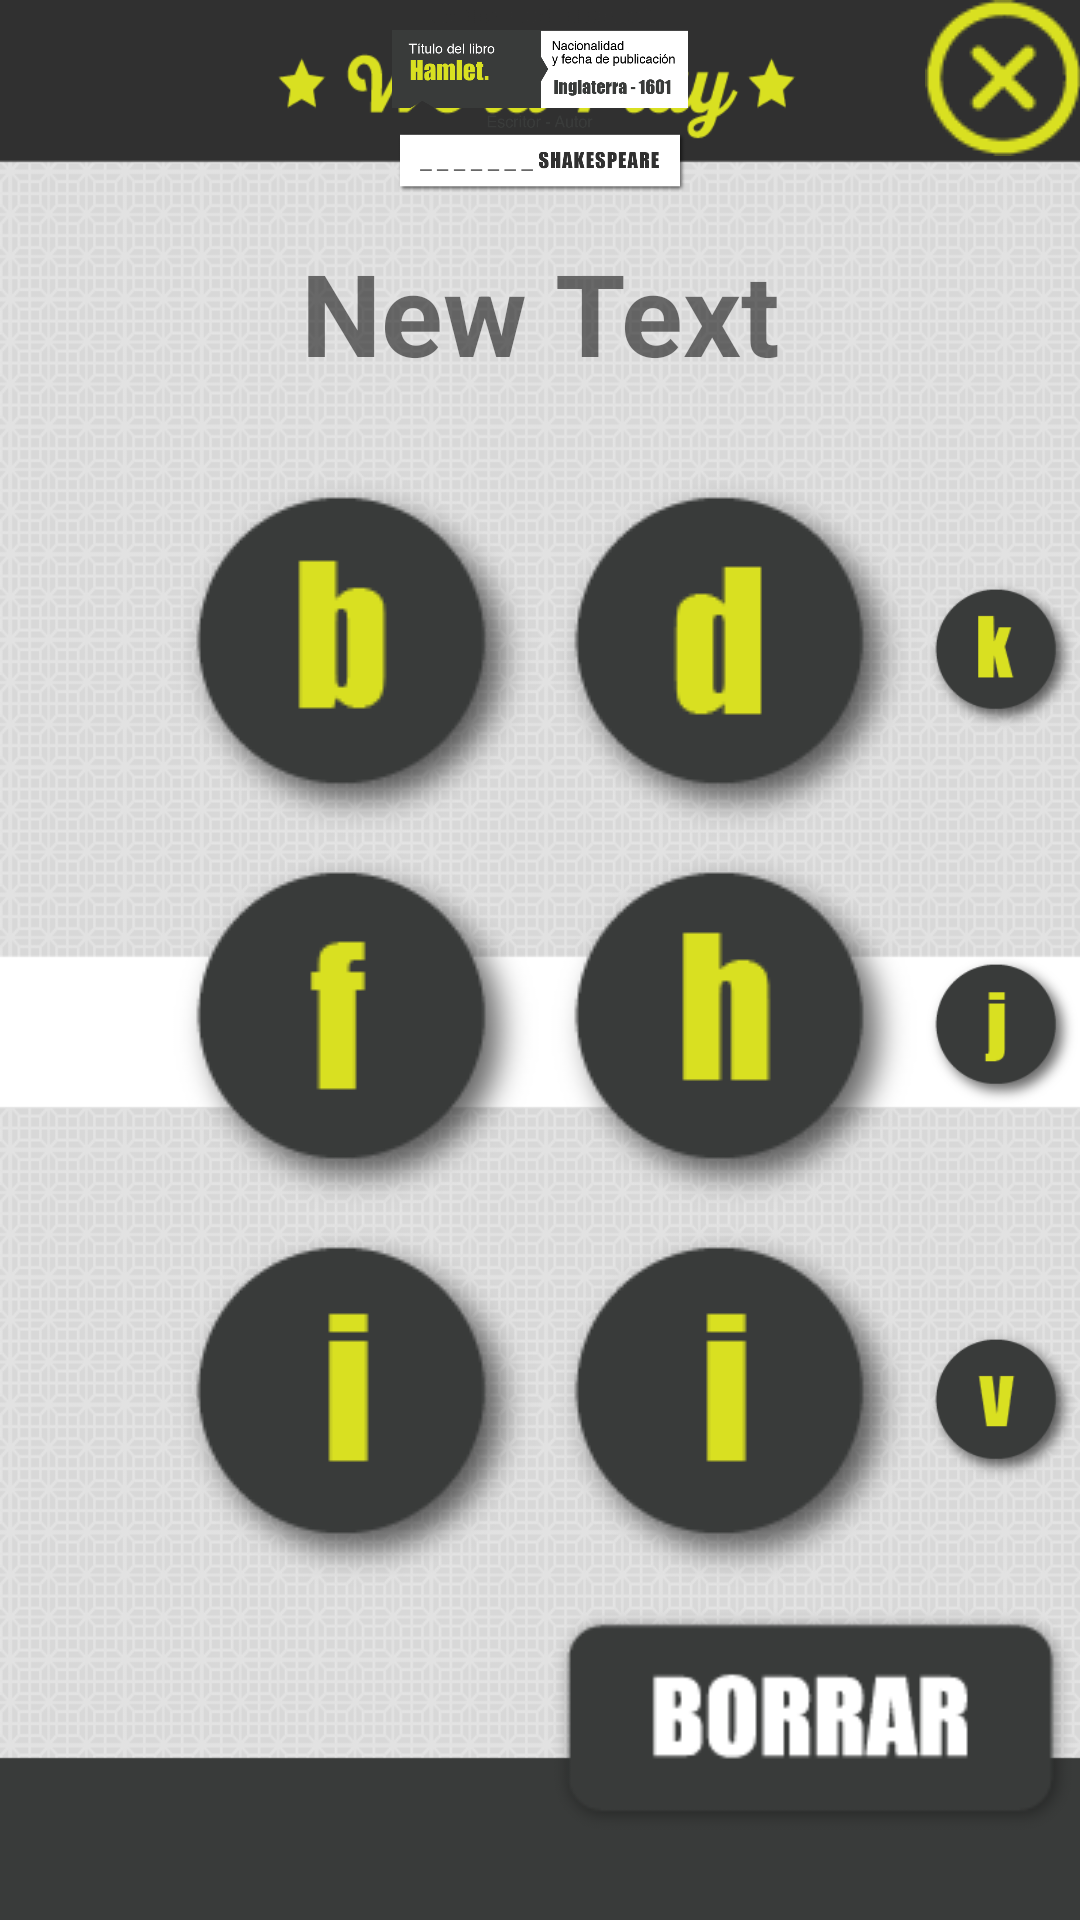

Named icons in this screenshot (1080px×1920px) and their bounding boxes, (x1, y1, x2, y2):
cerraruno: (925, 0, 1080, 156)
